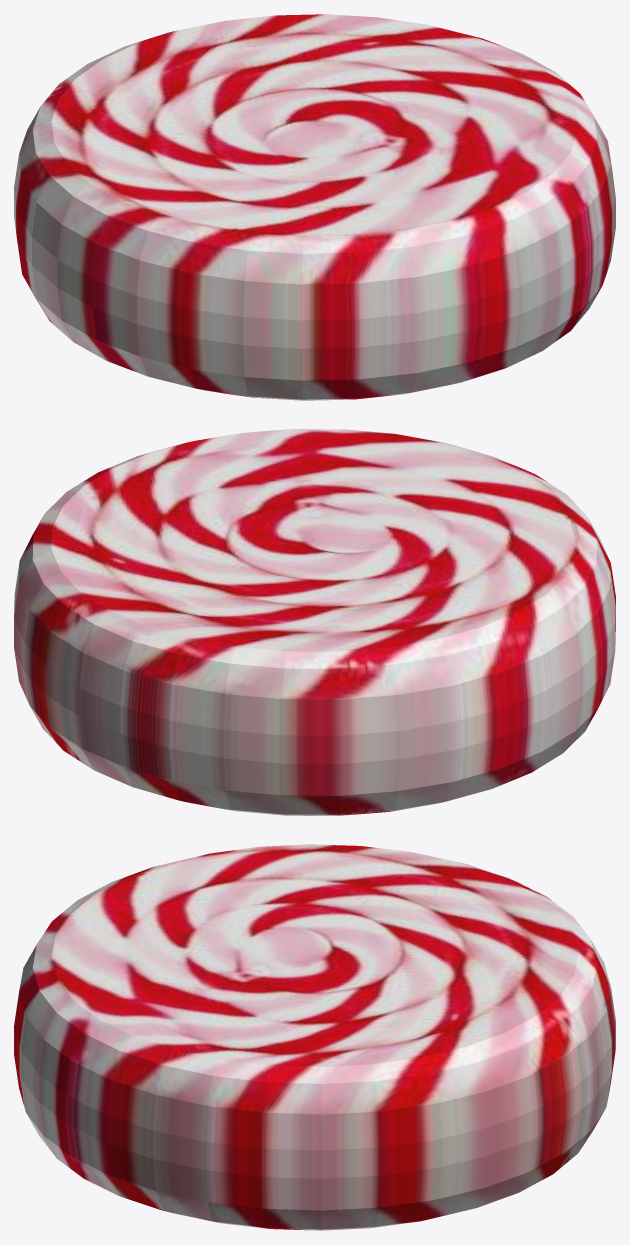
The model's file is Zaeltli-Spirale-CW.002.gltf.
3 views of the same model, one above another, from view 1: azimuth 30°, elevation 25°; view 2: azimuth 150°, elevation 25°; view 3: azimuth 270°, elevation 25° (orthographic).
Visible parts, largest first — view 1: Zaeltli-Spirale-CW.002; view 2: Zaeltli-Spirale-CW.002; view 3: Zaeltli-Spirale-CW.002.
Boxes of the visible parts, x1=… form: Zaeltli-Spirale-CW.002: x1=14, y1=14, x2=615, y2=400; Zaeltli-Spirale-CW.002: x1=14, y1=429, x2=615, y2=815; Zaeltli-Spirale-CW.002: x1=14, y1=844, x2=615, y2=1230.
Bounding box in the file's own units: 0.9998 × 0.3 × 0.9998.
Materials: 1 (1 with a texture image).
